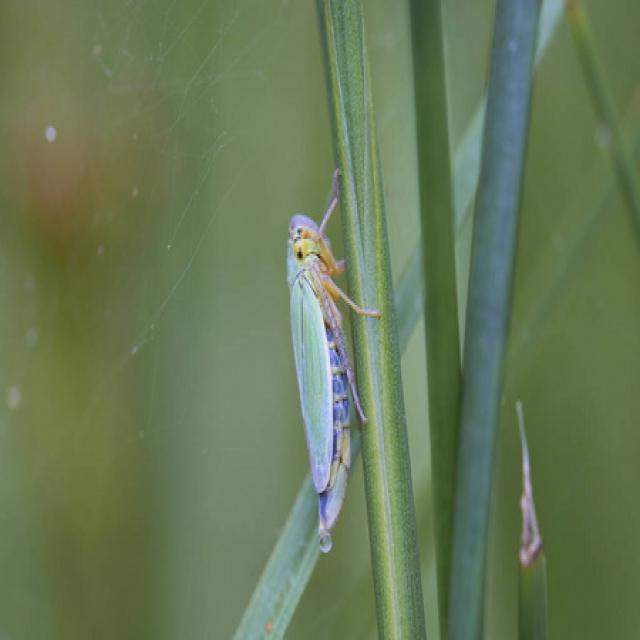Yechan: (280, 162, 389, 542)
